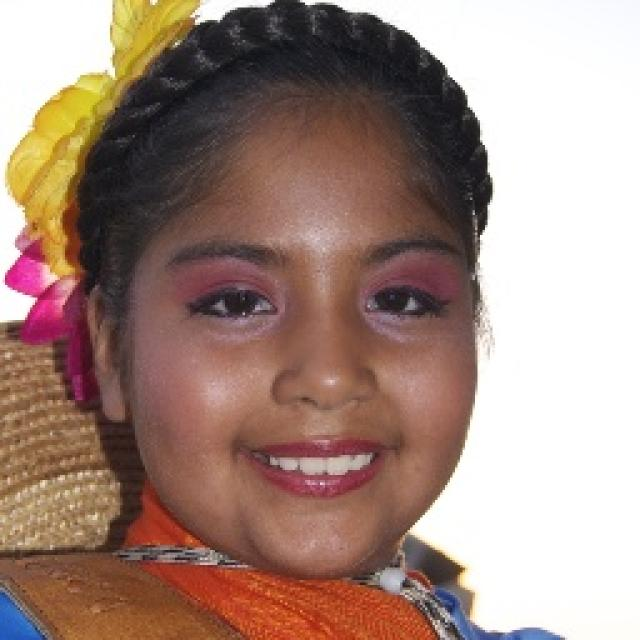earlobe: (85, 285, 132, 425)
